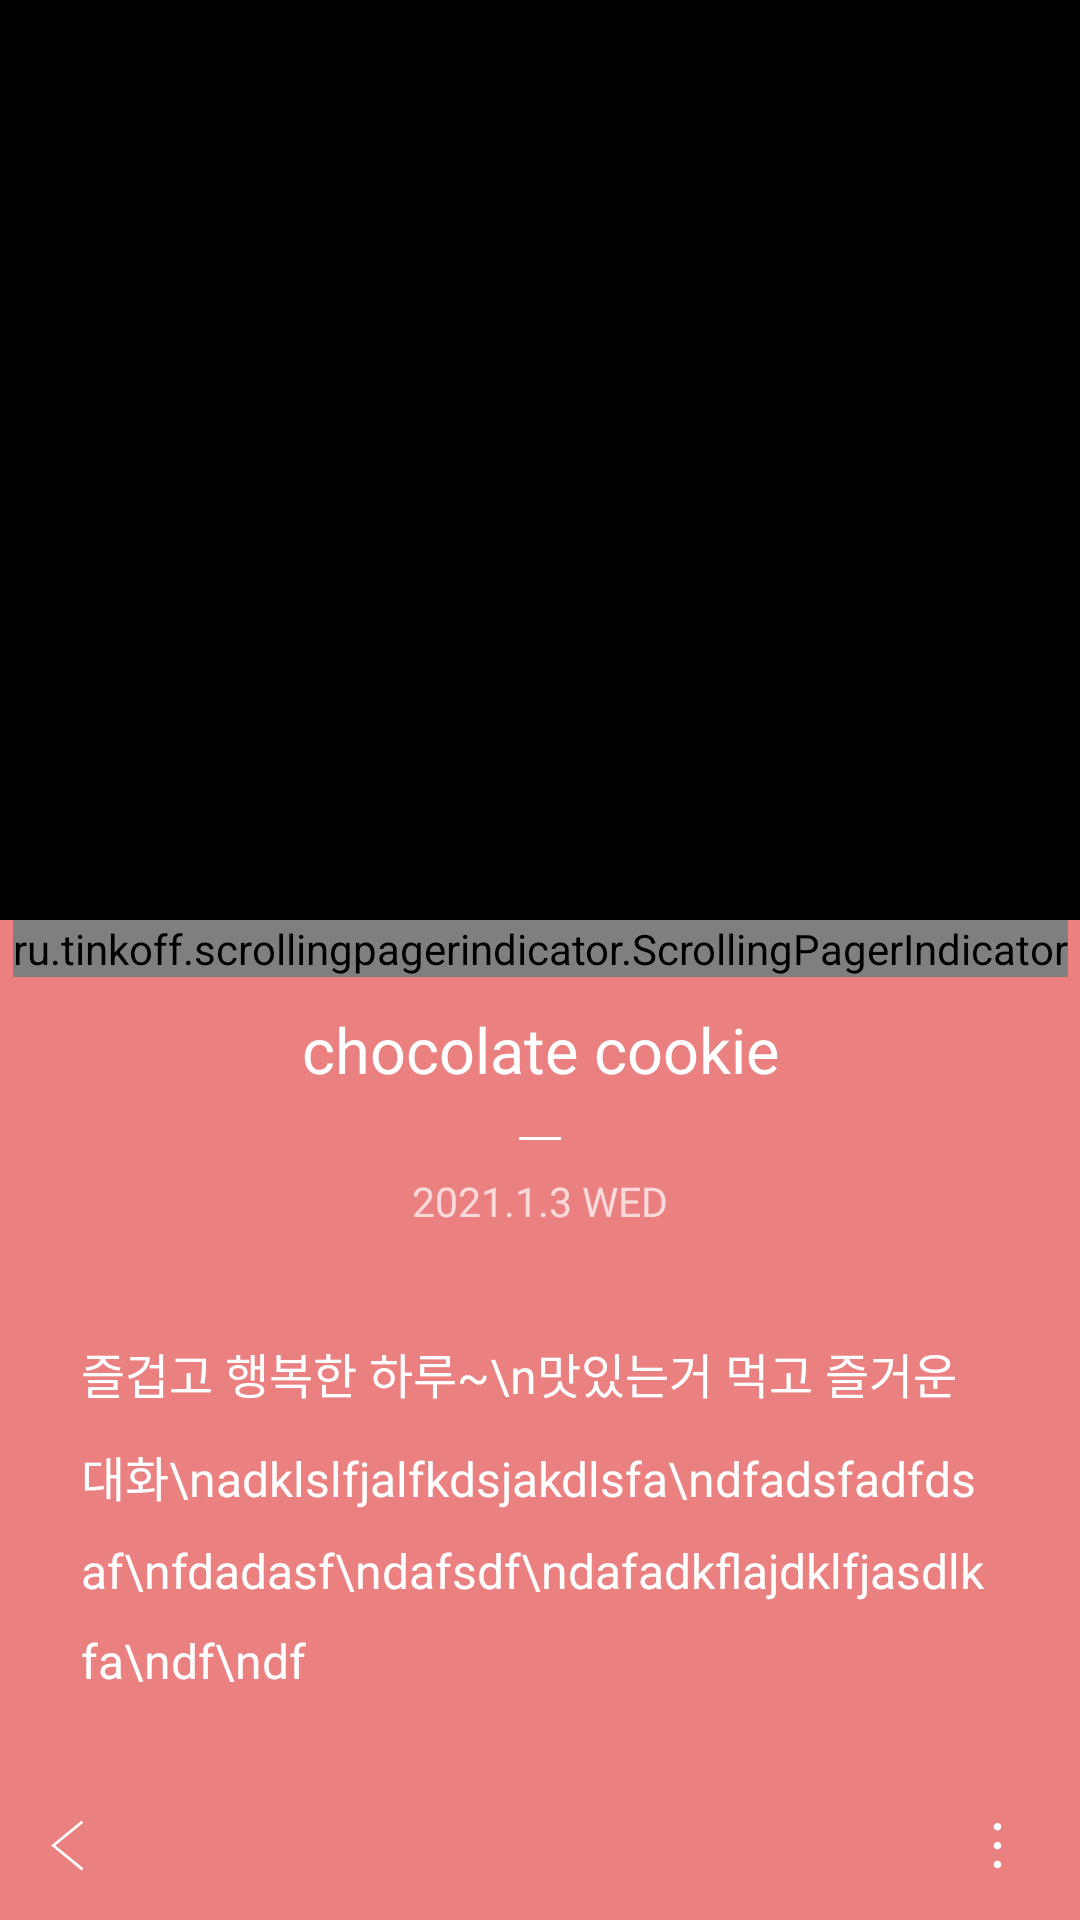

Screen size 1080*1920. Icon name, then its center in pixels as [x,y]:
back: [67,1845]
more: [997,1846]
